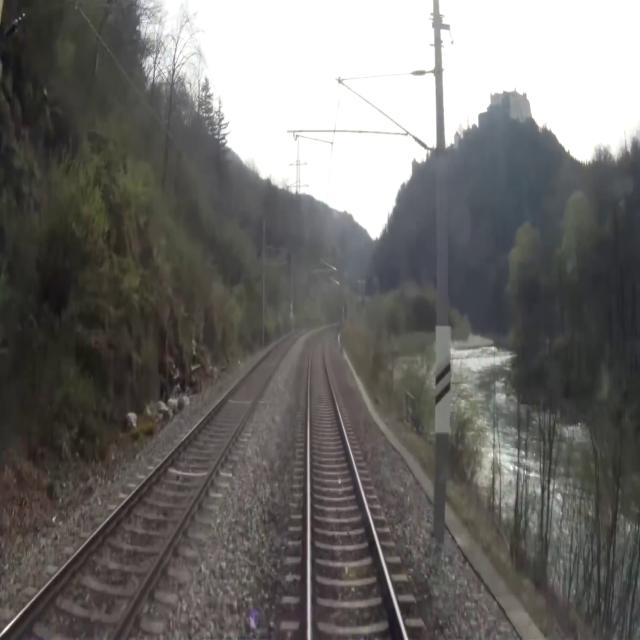rail-track: (2, 335, 294, 639), (311, 332, 403, 639)
